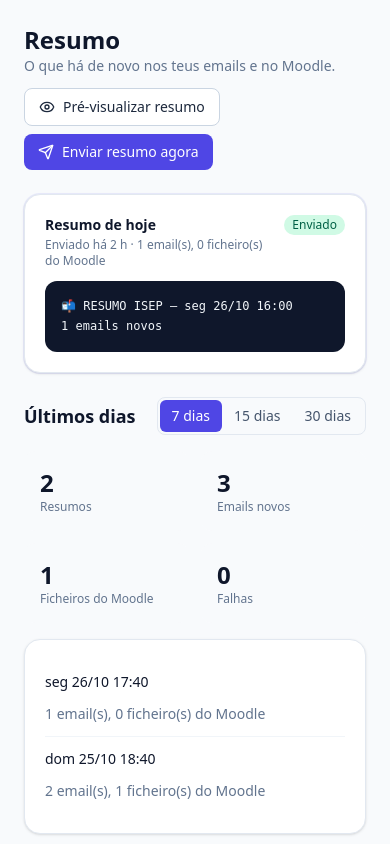
HomePage › lista os resumos do período e abre o texto de cada um
Check: the number of list items is 2, box x1=45 y1=660 x2=345 y2=737; x1=45 y1=749 x2=265 y2=800
Step 1. Click the text "2 email(s), 1 ficheiro(s) do Moodle" → (155, 791), box x1=45 y1=781 x2=265 y2=801
(page scrolled)
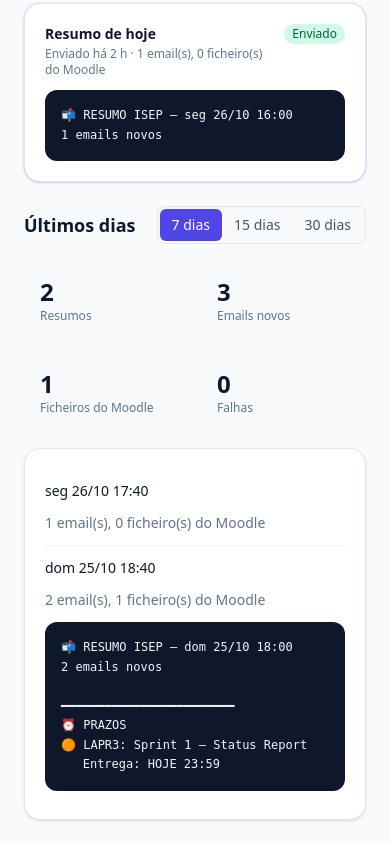
Check: the text "LAPR3: Sprint 1" is shown, box x1=61 y1=640 x2=307 y2=771
